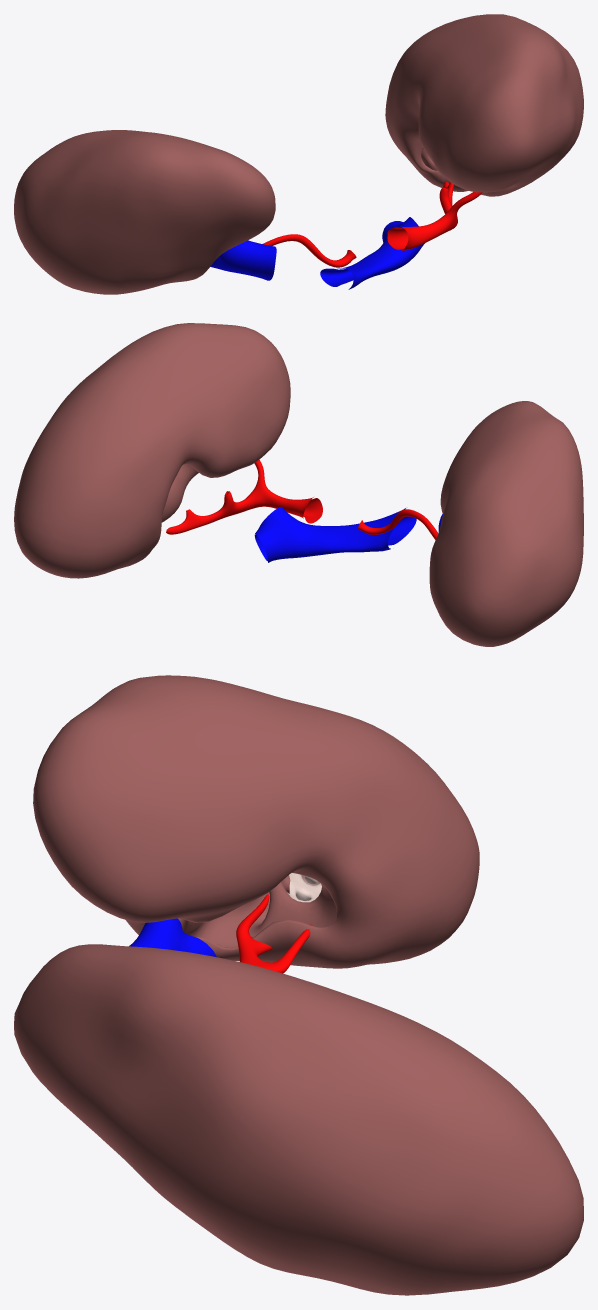
File: kidneys-female.glb
3 views of the same model, one above another, from view 1: azimuth 30°, elevation 25°; view 2: azimuth 150°, elevation 25°; view 3: azimuth 270°, elevation 25° (orthographic). The views are drawn at different scales.
Visible parts, largest first — view 1: VH_F_kidney_capsule_R, VH_F_kidney_capsule_L, VH_F_left_renal_vein, VH_F_left_renal_artery, VH_F_right_renal_vein, VH_F_right_renal_artery; view 2: VH_F_kidney_capsule_L, VH_F_kidney_capsule_R, VH_F_left_renal_vein, VH_F_left_renal_artery, VH_F_right_renal_artery; view 3: VH_F_kidney_capsule_L, VH_F_kidney_capsule_R, VH_F_hilum_of_kidney_R, VH_F_right_renal_artery, VH_F_right_renal_vein.
Part boxes in pixels (x1=…): VH_F_kidney_capsule_R: x1=14, y1=130, x2=275, y2=294; VH_F_kidney_capsule_L: x1=385, y1=14, x2=583, y2=196; VH_F_left_renal_vein: x1=320, y1=217, x2=424, y2=289; VH_F_left_renal_artery: x1=387, y1=181, x2=482, y2=251; VH_F_right_renal_vein: x1=210, y1=240, x2=276, y2=280; VH_F_right_renal_artery: x1=263, y1=234, x2=356, y2=267; VH_F_kidney_capsule_L: x1=14, y1=323, x2=290, y2=578; VH_F_kidney_capsule_R: x1=429, y1=401, x2=583, y2=646; VH_F_left_renal_vein: x1=254, y1=507, x2=416, y2=562; VH_F_left_renal_artery: x1=166, y1=459, x2=322, y2=534; VH_F_right_renal_artery: x1=358, y1=509, x2=438, y2=539; VH_F_kidney_capsule_L: x1=14, y1=944, x2=583, y2=1295; VH_F_kidney_capsule_R: x1=33, y1=675, x2=479, y2=968; VH_F_hilum_of_kidney_R: x1=178, y1=875, x2=337, y2=947; VH_F_right_renal_artery: x1=236, y1=894, x2=312, y2=973; VH_F_right_renal_vein: x1=129, y1=918, x2=216, y2=957.
Bounding box in the file's own units: 222 × 80.57 × 125.
